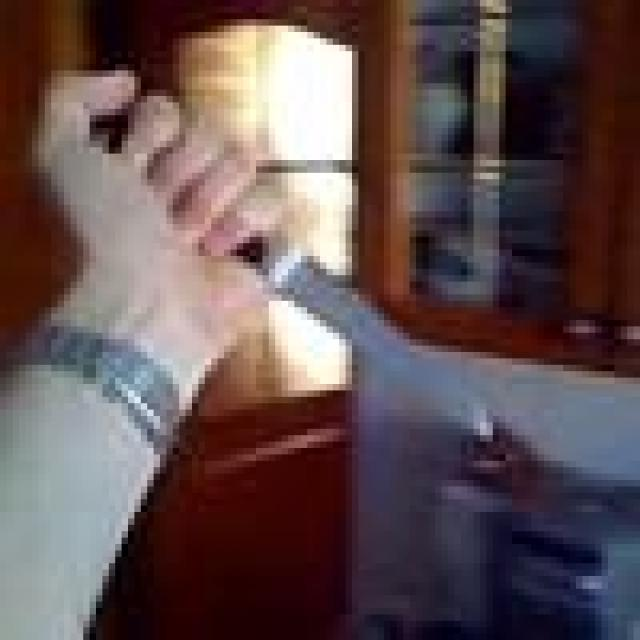faca: (19, 58, 506, 474)
